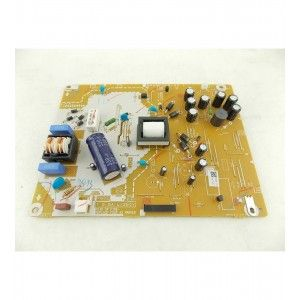capacitor: (86, 133, 121, 180), (212, 92, 226, 108), (186, 108, 198, 122), (198, 95, 210, 109), (195, 158, 207, 171), (195, 143, 207, 156), (185, 97, 196, 107), (228, 94, 237, 104), (187, 175, 196, 185), (184, 88, 195, 96), (89, 163, 97, 170), (160, 166, 166, 175), (121, 164, 127, 172)
